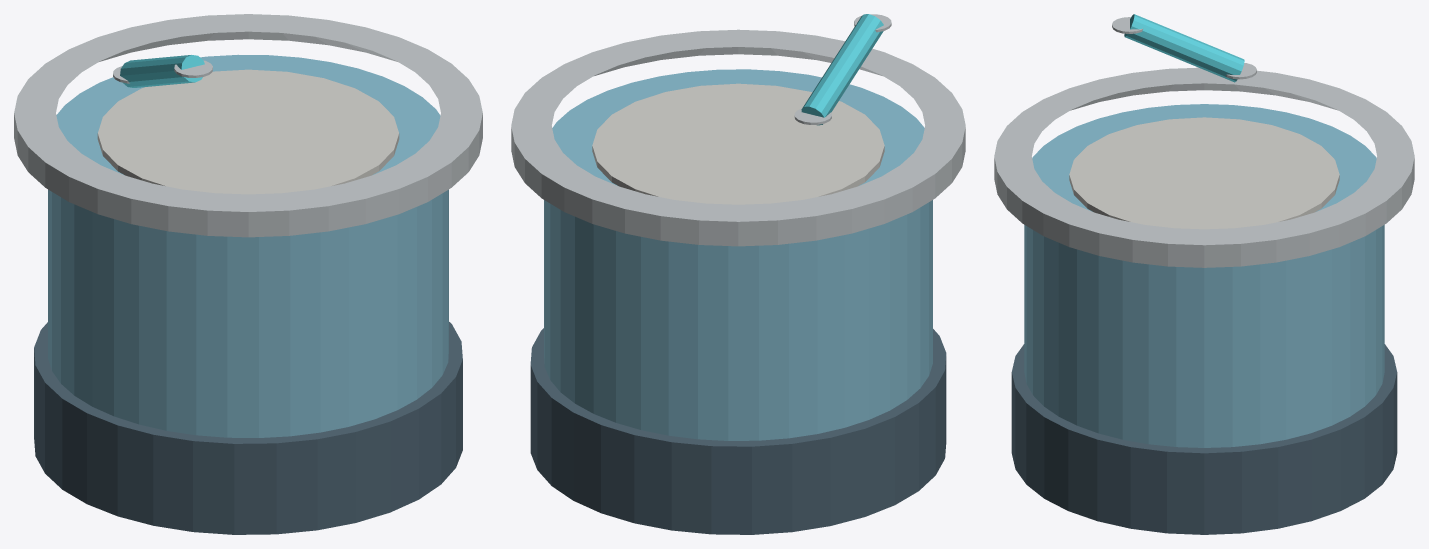
File: 11_L78_CopperSurfacePreconditioningModule.glb
3 renders of one model, left to right at view 1: azimuth 30°, elevation 25°; view 2: azimuth 150°, elevation 25°; view 3: azimuth 270°, elevation 25°, orthographic. The views are drawn at different scales.
Parts seen in each view (by area): view 1: CopperSurfacePreconditioningModule_Node_0001, CopperSurfacePreconditioningModule_Node_0000, CopperSurfacePreconditioningModule_Node_0002, CopperSurfacePreconditioningModule_Node_0003, CopperSurfacePreconditioningModule_Node_0004; view 2: CopperSurfacePreconditioningModule_Node_0001, CopperSurfacePreconditioningModule_Node_0000, CopperSurfacePreconditioningModule_Node_0002, CopperSurfacePreconditioningModule_Node_0003, CopperSurfacePreconditioningModule_Node_0004; view 3: CopperSurfacePreconditioningModule_Node_0001, CopperSurfacePreconditioningModule_Node_0000, CopperSurfacePreconditioningModule_Node_0002, CopperSurfacePreconditioningModule_Node_0003, CopperSurfacePreconditioningModule_Node_0004.
Part boxes in pixels (x1,y1,x2,y2): CopperSurfacePreconditioningModule_Node_0001: (48,54,448,437); CopperSurfacePreconditioningModule_Node_0000: (34,322,462,534); CopperSurfacePreconditioningModule_Node_0002: (14,14,482,237); CopperSurfacePreconditioningModule_Node_0003: (97,69,399,194); CopperSurfacePreconditioningModule_Node_0004: (120,55,204,87); CopperSurfacePreconditioningModule_Node_0001: (544,69,932,440); CopperSurfacePreconditioningModule_Node_0000: (530,328,946,534); CopperSurfacePreconditioningModule_Node_0002: (511,29,965,246); CopperSurfacePreconditioningModule_Node_0003: (592,83,884,204); CopperSurfacePreconditioningModule_Node_0004: (801,14,883,125); CopperSurfacePreconditioningModule_Node_0001: (1024,104,1384,447); CopperSurfacePreconditioningModule_Node_0000: (1011,344,1397,534); CopperSurfacePreconditioningModule_Node_0002: (994,67,1414,267); CopperSurfacePreconditioningModule_Node_0003: (1069,117,1339,229); CopperSurfacePreconditioningModule_Node_0004: (1124,14,1244,82).
Bounding box in the file's own units: 1.68 × 1.75 × 1.68.
